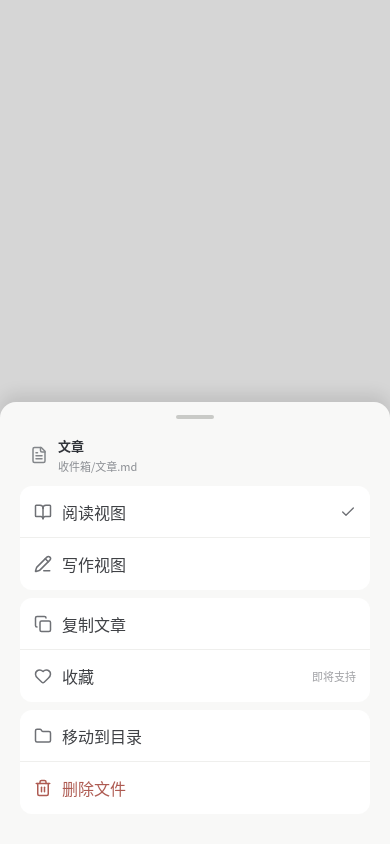
Test: FileActionSheet › 移动和 GitHub 同步验证期间显示 loading 并禁止关闭弹窗
Step 1. Click the button "移动到目录" → (102, 736), box [20, 710, 370, 762]
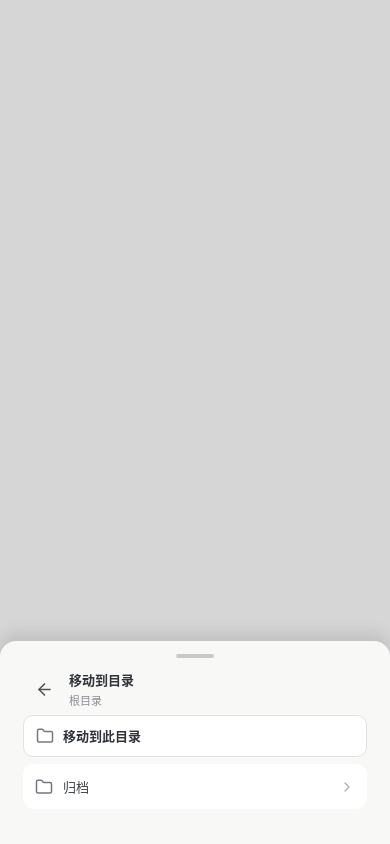
Step 2. Click the button "移动到此目录" → (102, 736), box [23, 715, 367, 757]
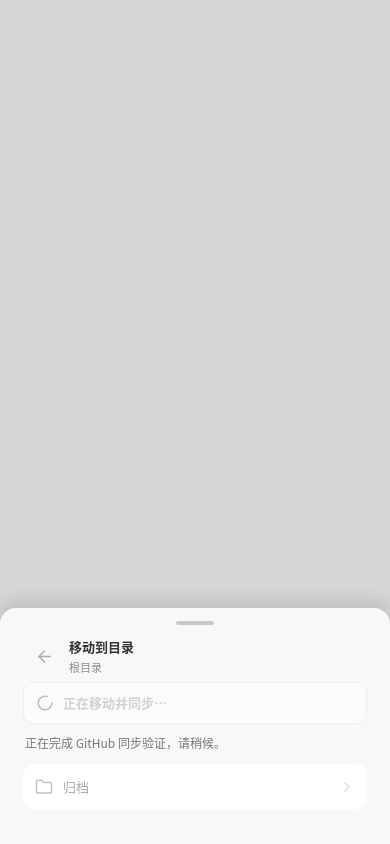
Check: the message reads "正在完成 GitHub 同步验证，请稍候。", box [25, 734, 226, 751]
Check: the button named "关闭文件操作" is disabled
Check: the button "正在移动并同步…" is disabled, box [23, 682, 367, 724]
